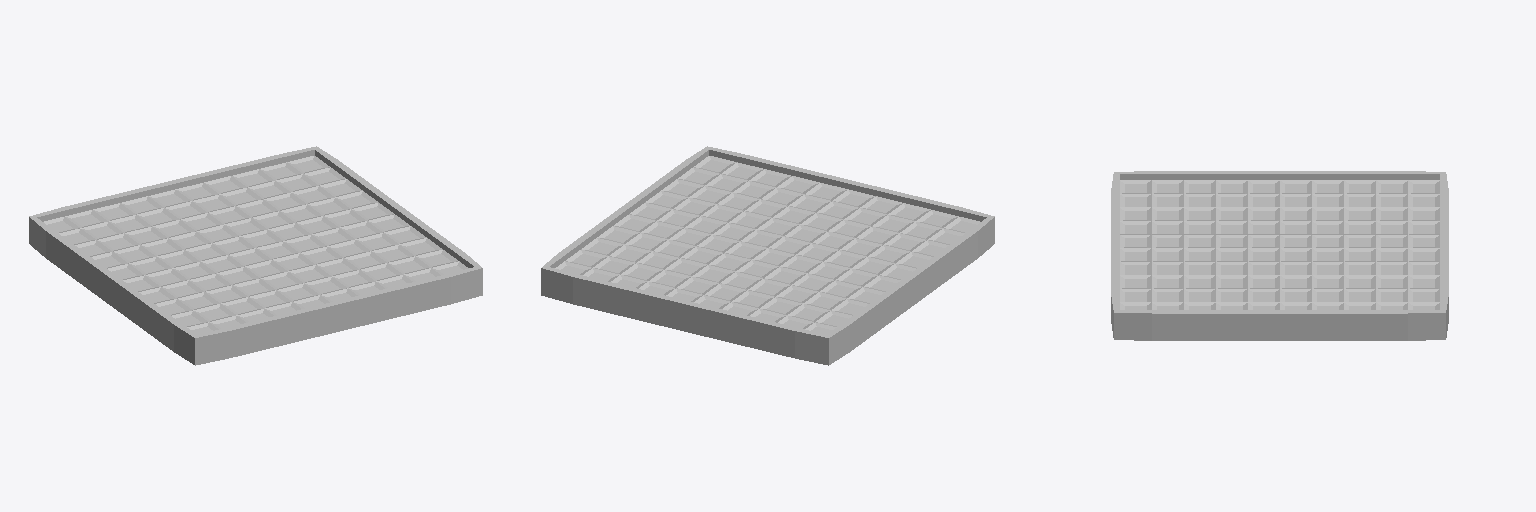
The model's file is mField.obj.
3 renders of one model, left to right at view 1: azimuth 30°, elevation 25°; view 2: azimuth 150°, elevation 25°; view 3: azimuth 270°, elevation 25°, orthographic.
Bounding box in the file's own units: 0.5252 × 0.0472 × 0.5252.